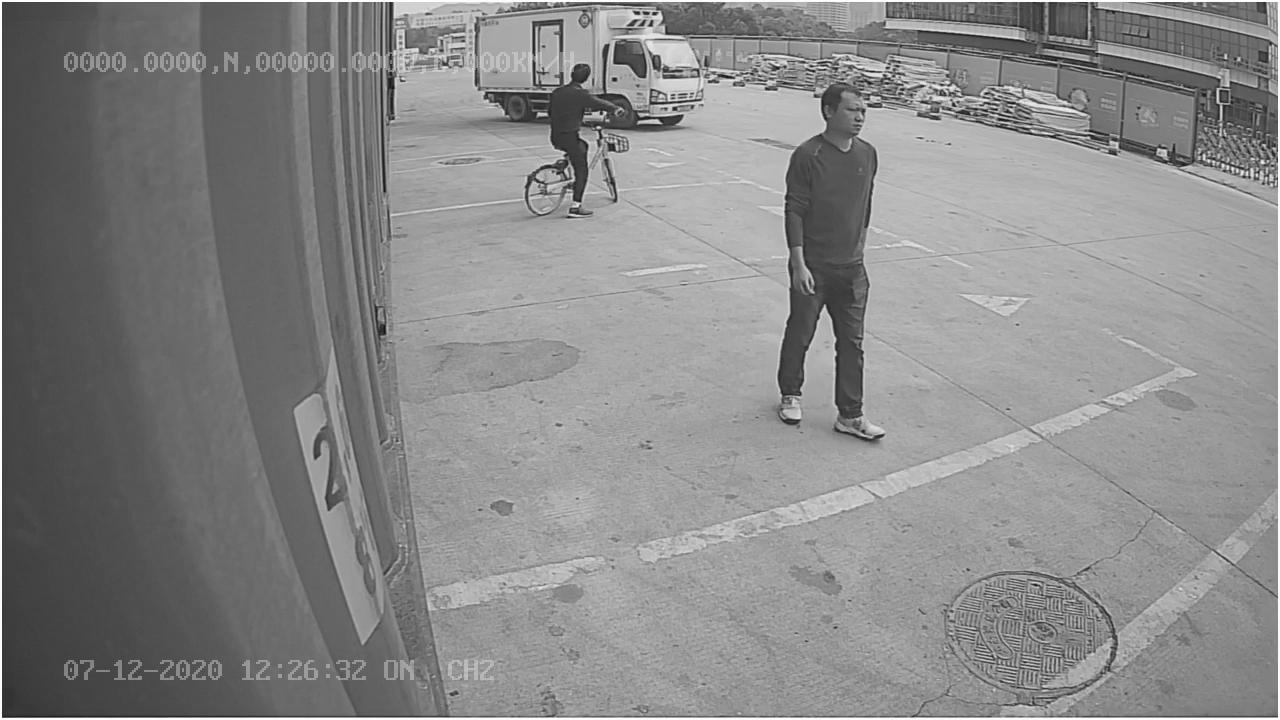person: (768, 80, 896, 445)
